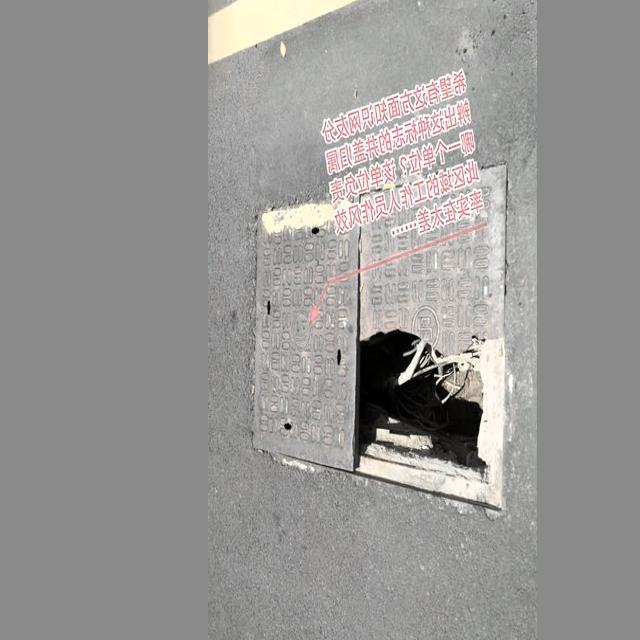broke: (235, 154, 524, 509)
